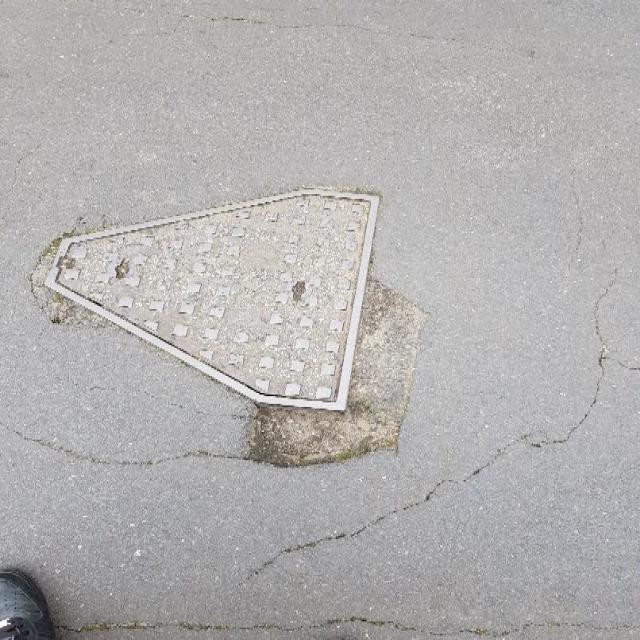Pothole: (238, 273, 432, 473)
